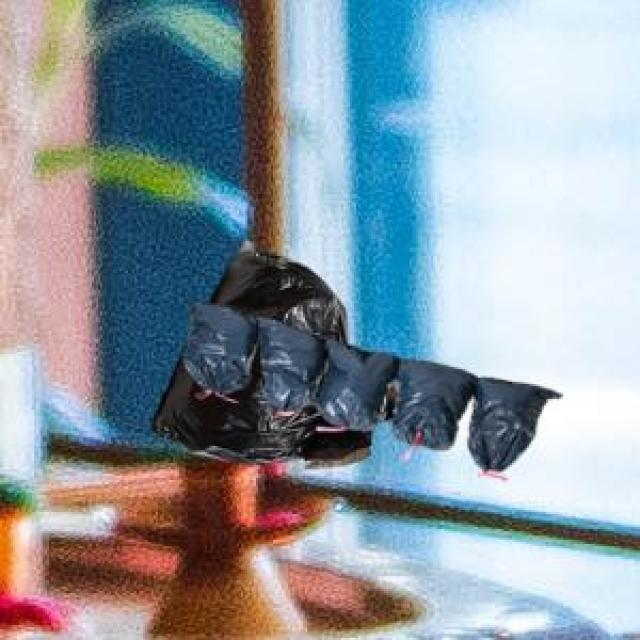Vinyl: (155, 246, 558, 471)
